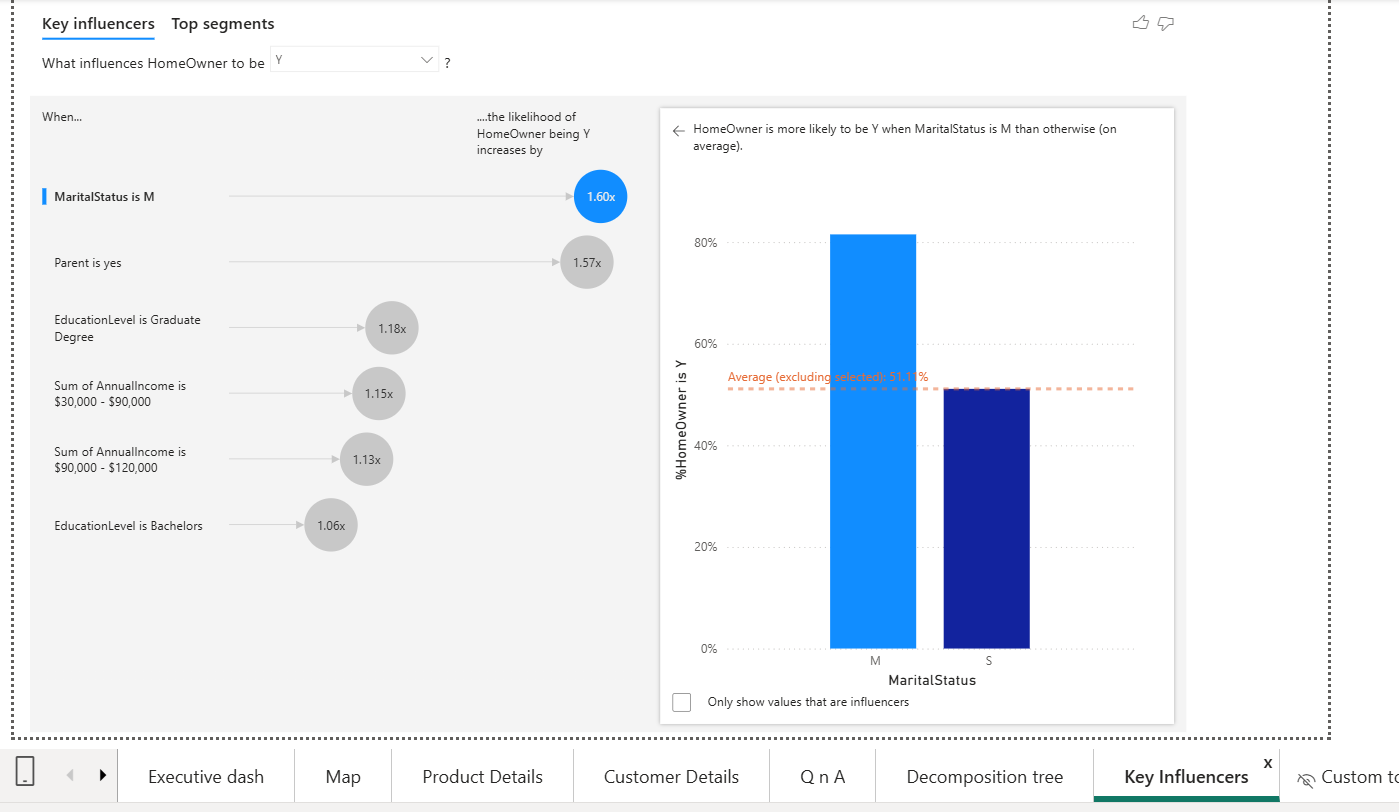

What the dashboard file says about the page in this screenshot:
{"tool":"powerbi","page":{"name":"Key Influencers","canvas":[1280,720],"ordinal":6},"visuals":[{"type":"keyDriversVisual","fields":{"Target":["Customer Lookup.HomeOwner"],"ExplainBy":["Sum(Customer Lookup.AnnualIncome)","Customer Lookup.EducationLevel","Customer Lookup.Parent","Customer Lookup.MaritalStatus"]},"box":[10.2,0,1137,720.5],"z":0}]}

Visuals, with their boxes on the page's 1280x720 design canvas (x1, y1, x2, y2). These are canvas units, not pixel positions in the 1399x812 screenshot, which may show the page scaled, cropped or inside an application window:
keyDriversVisual - Customer Lookup.HomeOwner x Sum(Customer Lookup.AnnualIncome): [left=10, top=0, right=1147, bottom=720]
